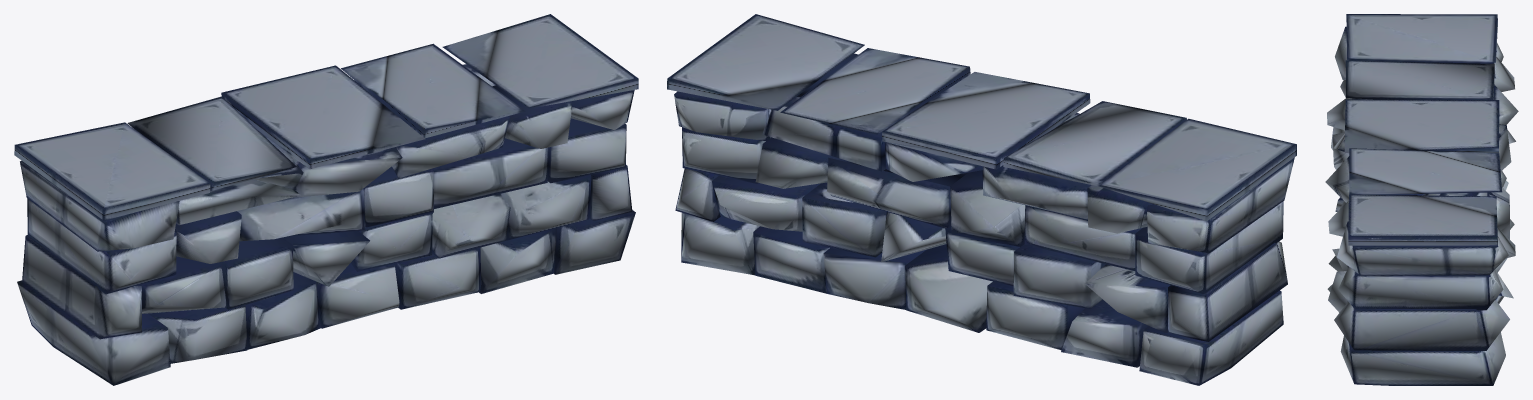
File: harbour_wall.glb
3 views of the same model, side by side, from view 1: azimuth 30°, elevation 25°; view 2: azimuth 150°, elevation 25°; view 3: azimuth 270°, elevation 25° (orthographic). The views are drawn at different scales.
Bounding box in the file's own units: 1 × 0.3252 × 0.3682.
Materials: 1 (1 with a texture image).
